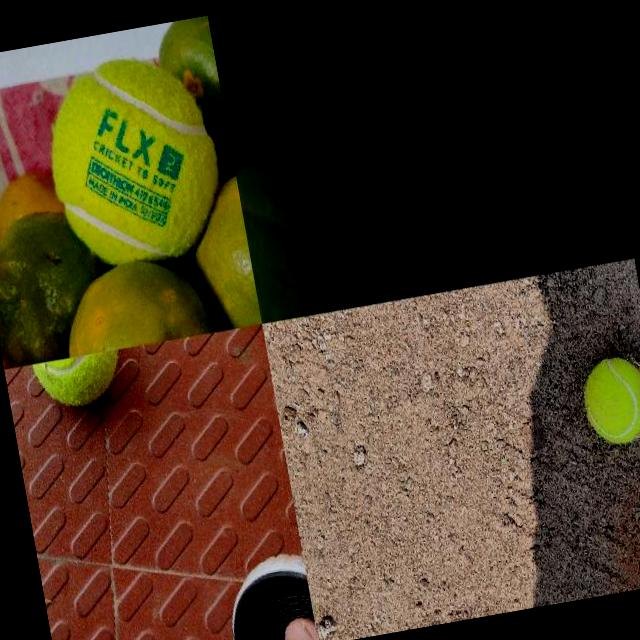tennis-ball: (34, 50, 198, 270), (234, 145, 369, 323), (31, 349, 126, 413), (577, 352, 640, 447)
